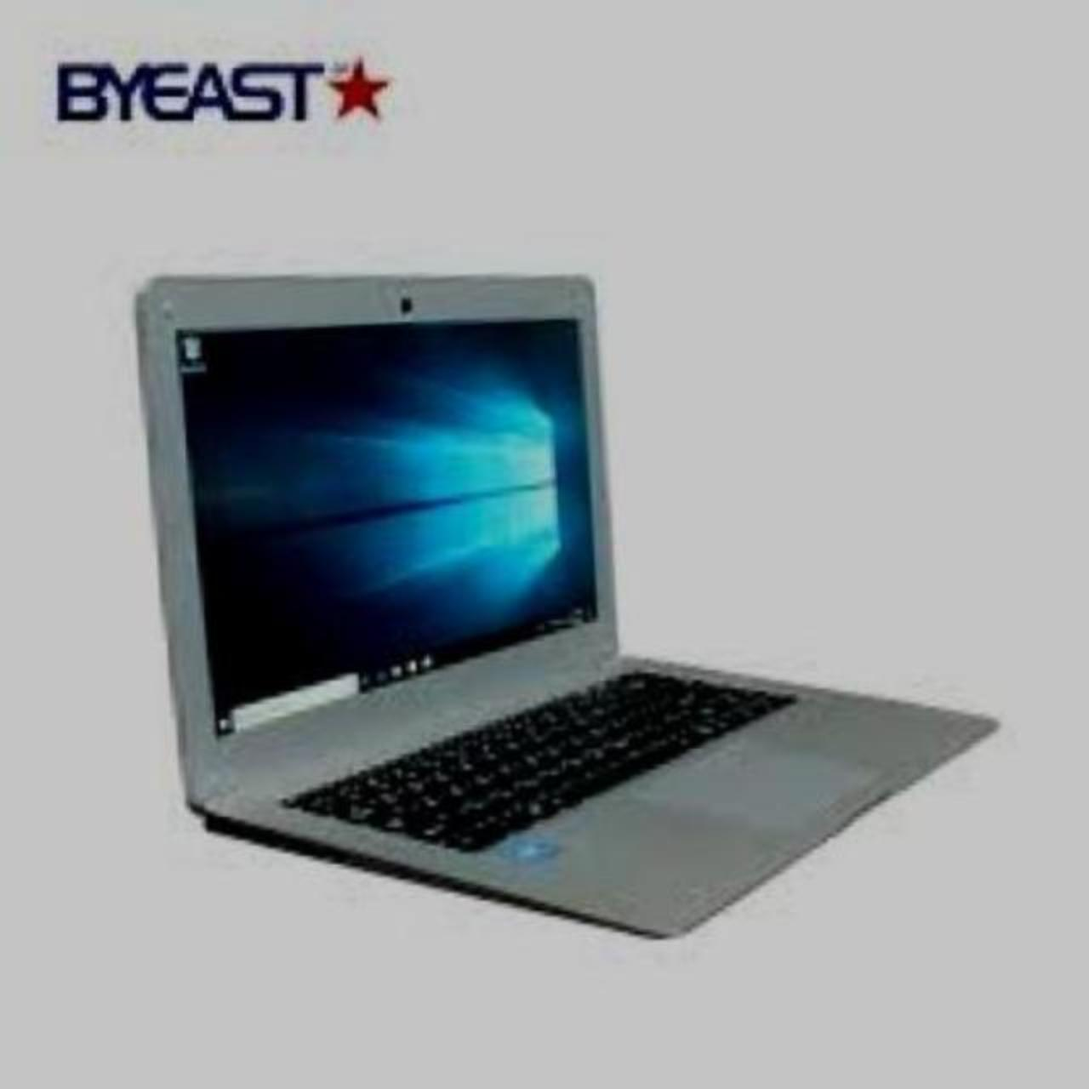laptop: (68, 191, 1028, 966)
